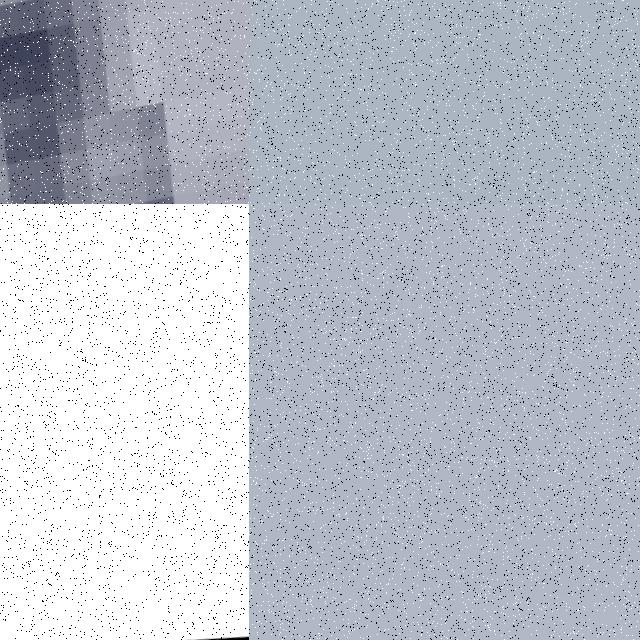0: (0, 0, 249, 204)
drone: (0, 331, 249, 640)
